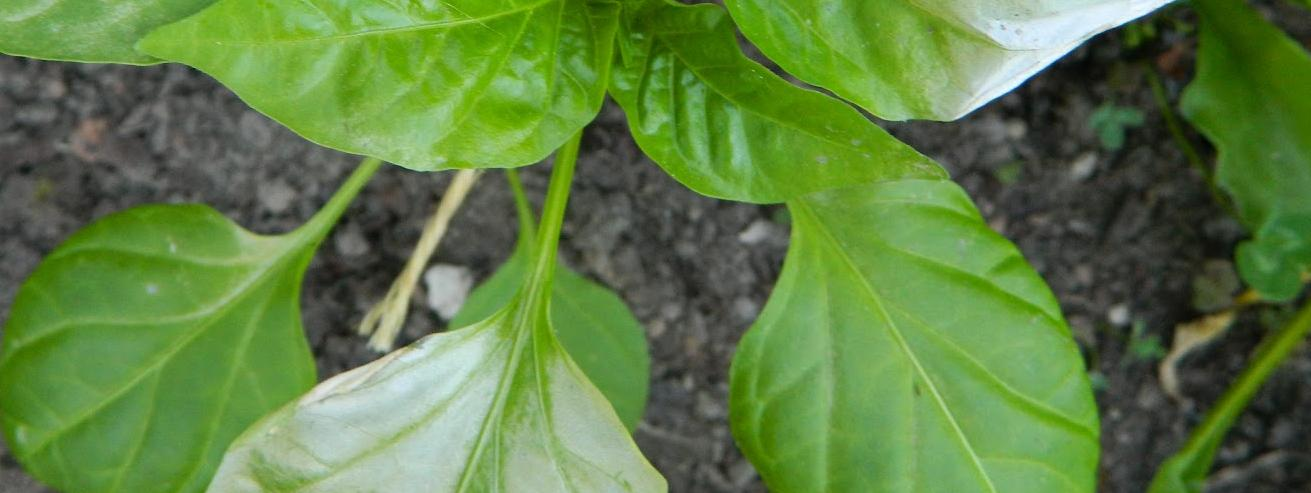Tomato leaf: (635, 26, 1135, 493), (155, 0, 610, 179)
